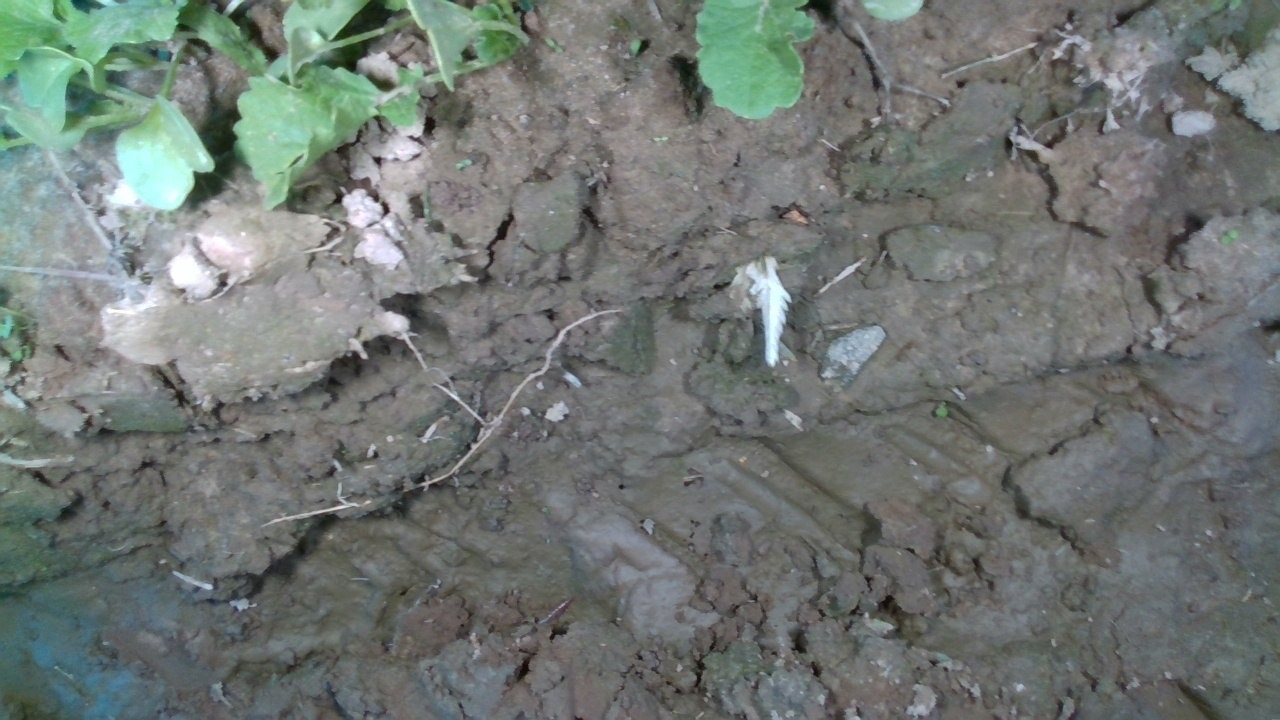weed: (1218, 227, 1241, 246), (544, 36, 565, 56), (454, 156, 473, 170)
